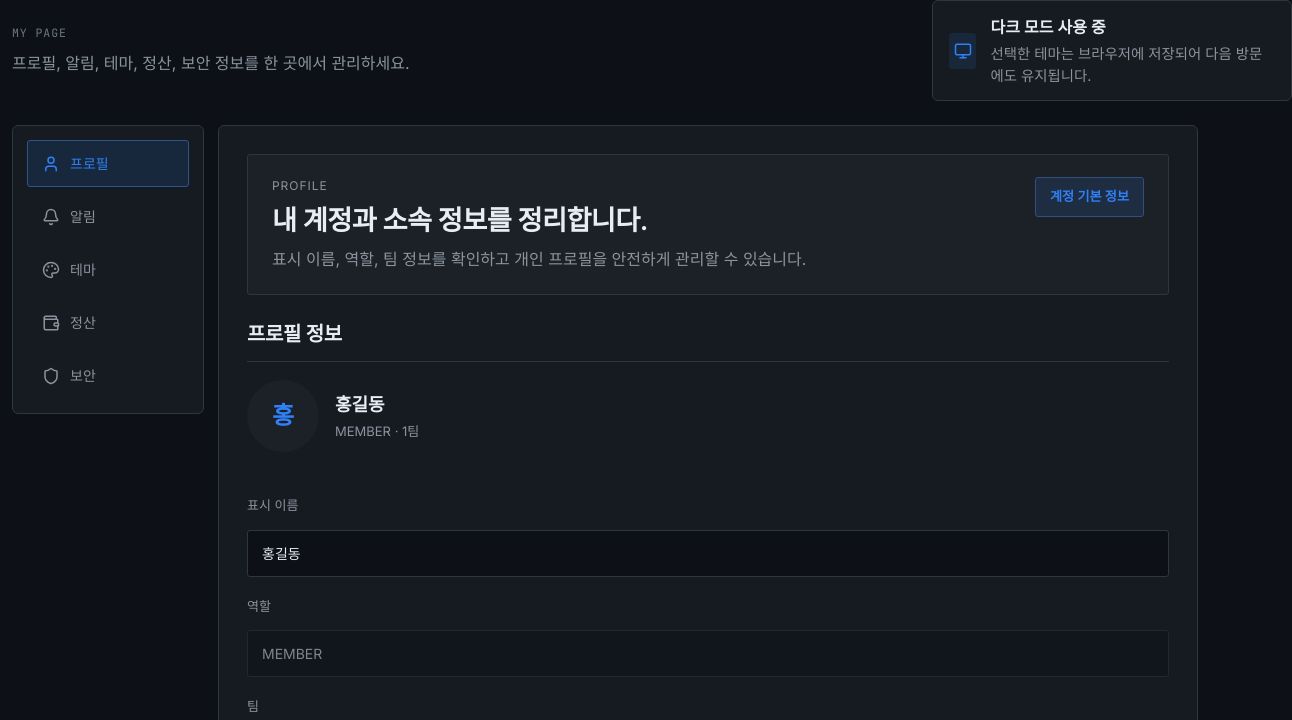
Test: Settings 페이지 › 정산 탭 클릭 시 개인 지각비 정산이 표시된다
The width and height of the screenshot is (1292, 720).
Click the button "정산".
click(108, 323)  # box [27,299,189,346]
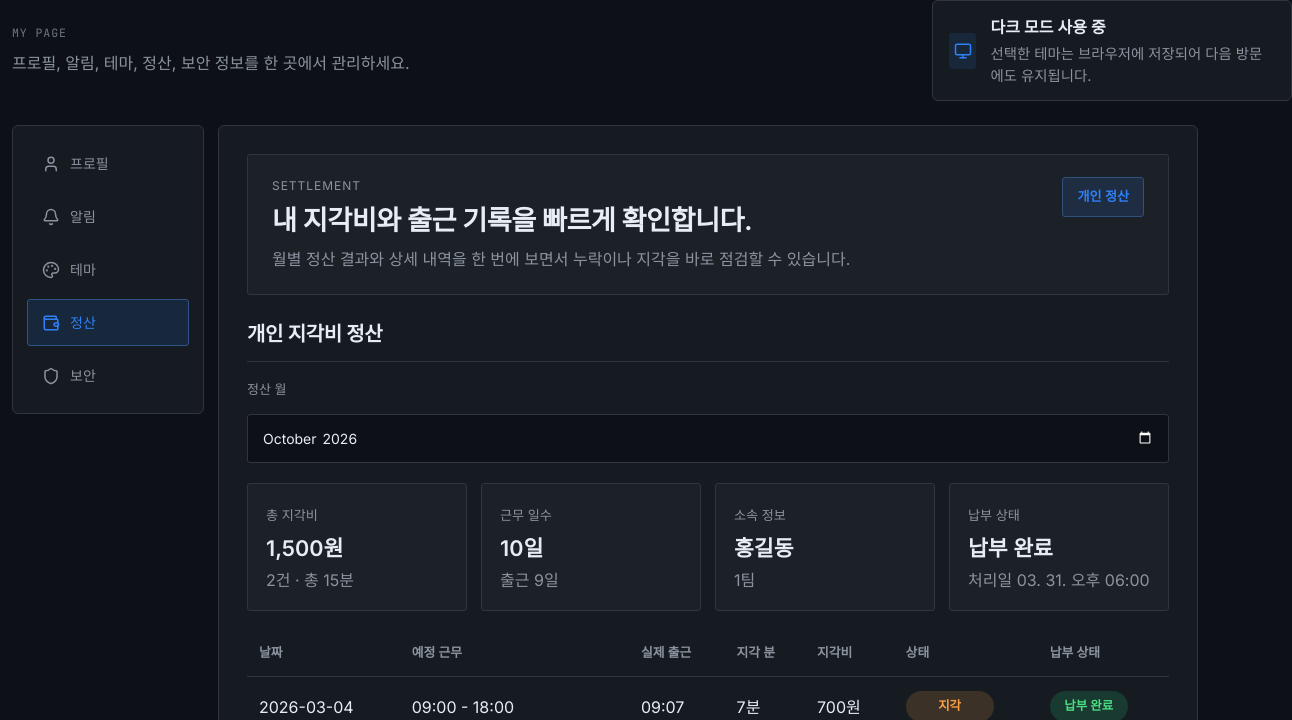
Check: the heading "개인 지각비 정산" is shown, box [247,319,1169,362]
Check: the text "1,500원" is shown, box [266,535,343,561]
Check: the text "납부 완료" in the row of "홍길동" is shown, box [968,535,1053,561]
